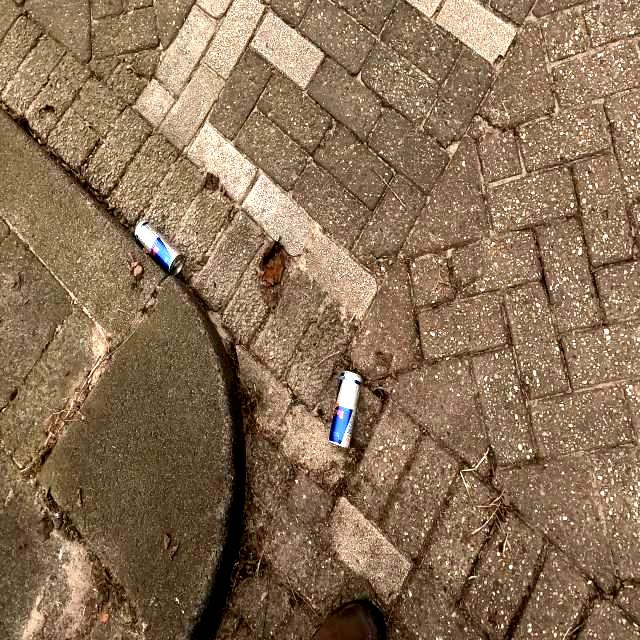Metal: (133, 219, 185, 277), (328, 369, 362, 449)
